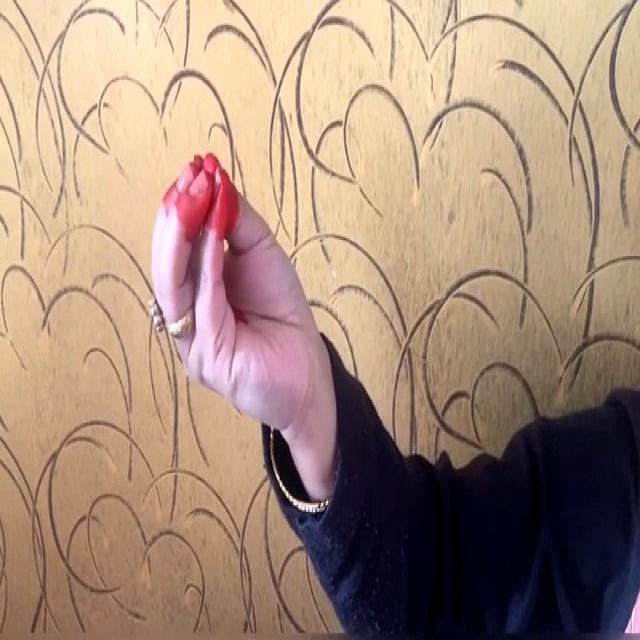Mukula: (142, 106, 356, 450)
